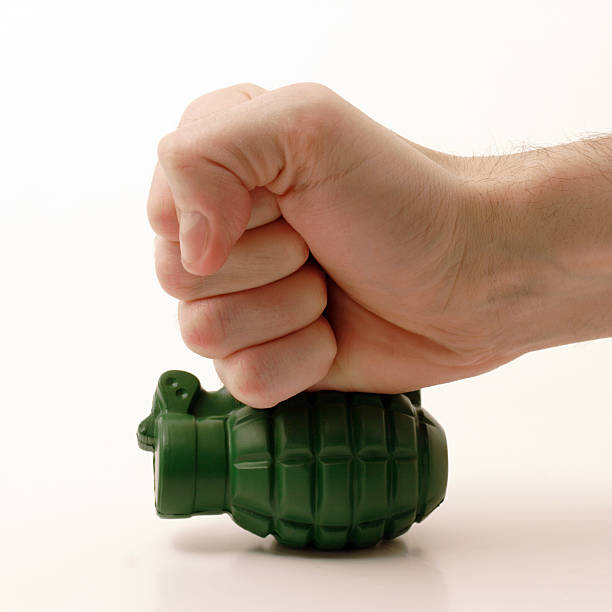e1: (137, 370, 450, 552)
